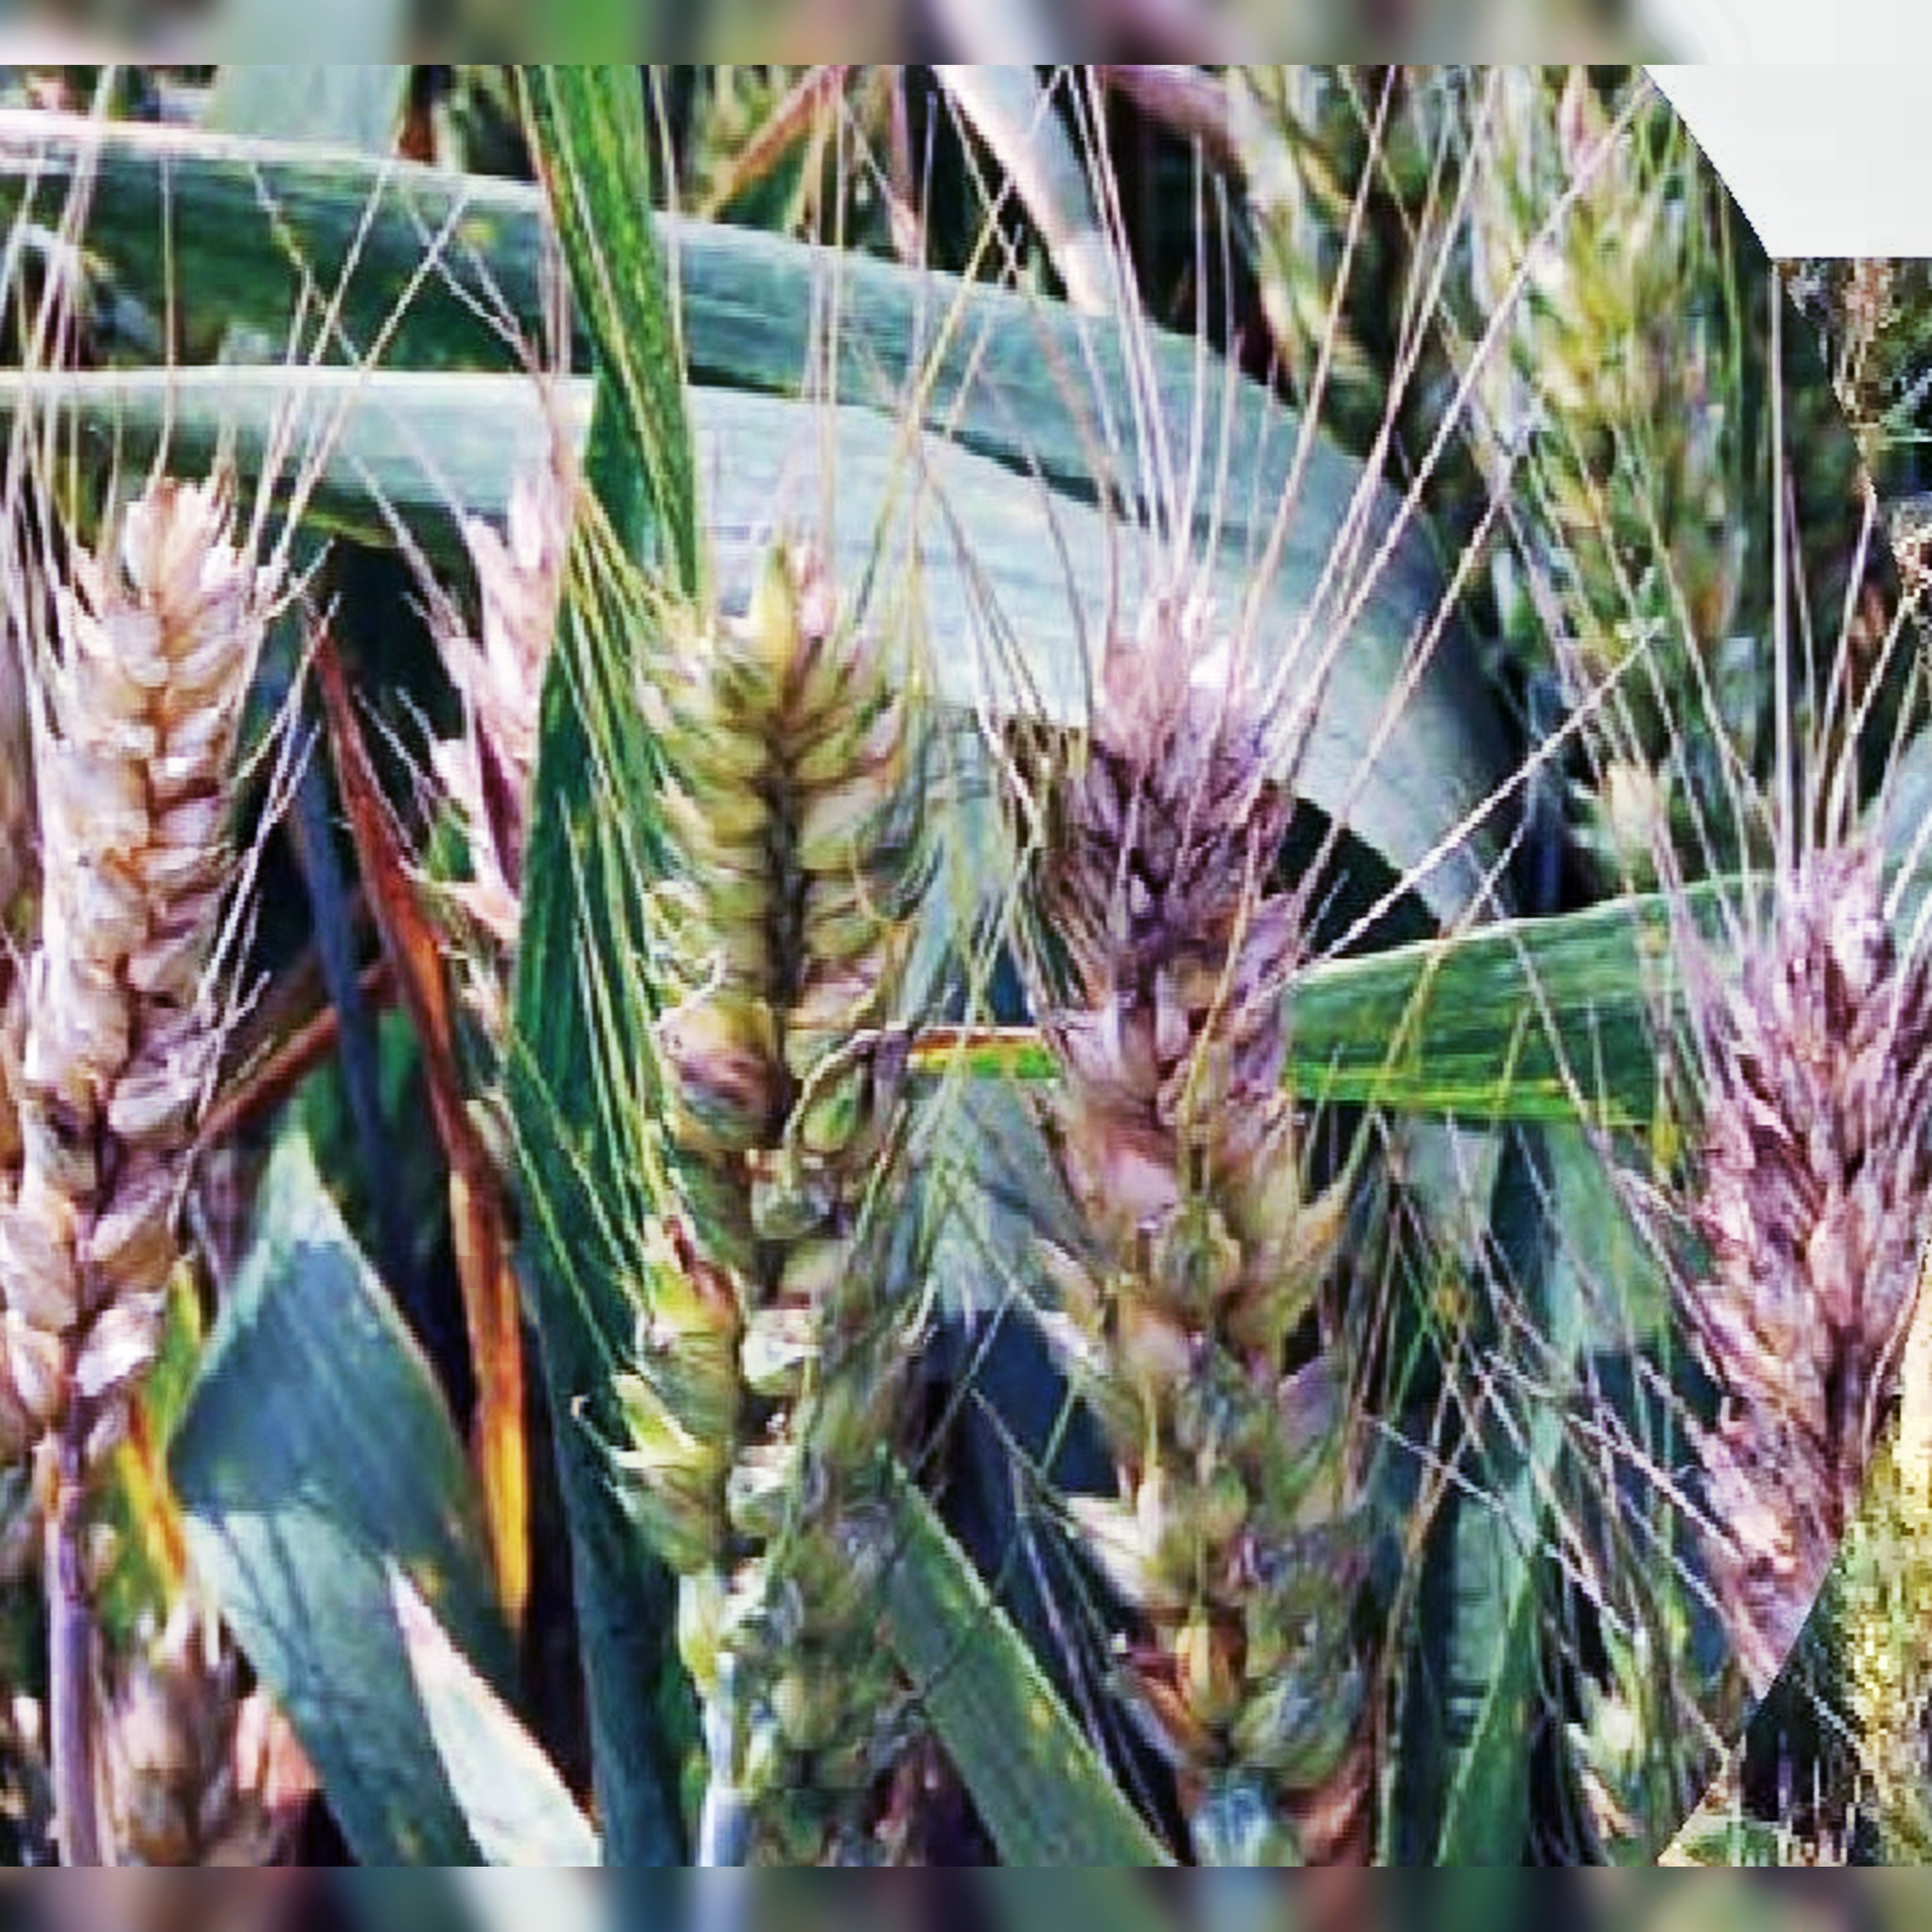Wheat scab: (984, 587, 1396, 1805), (564, 515, 959, 1619), (0, 449, 299, 1543)
